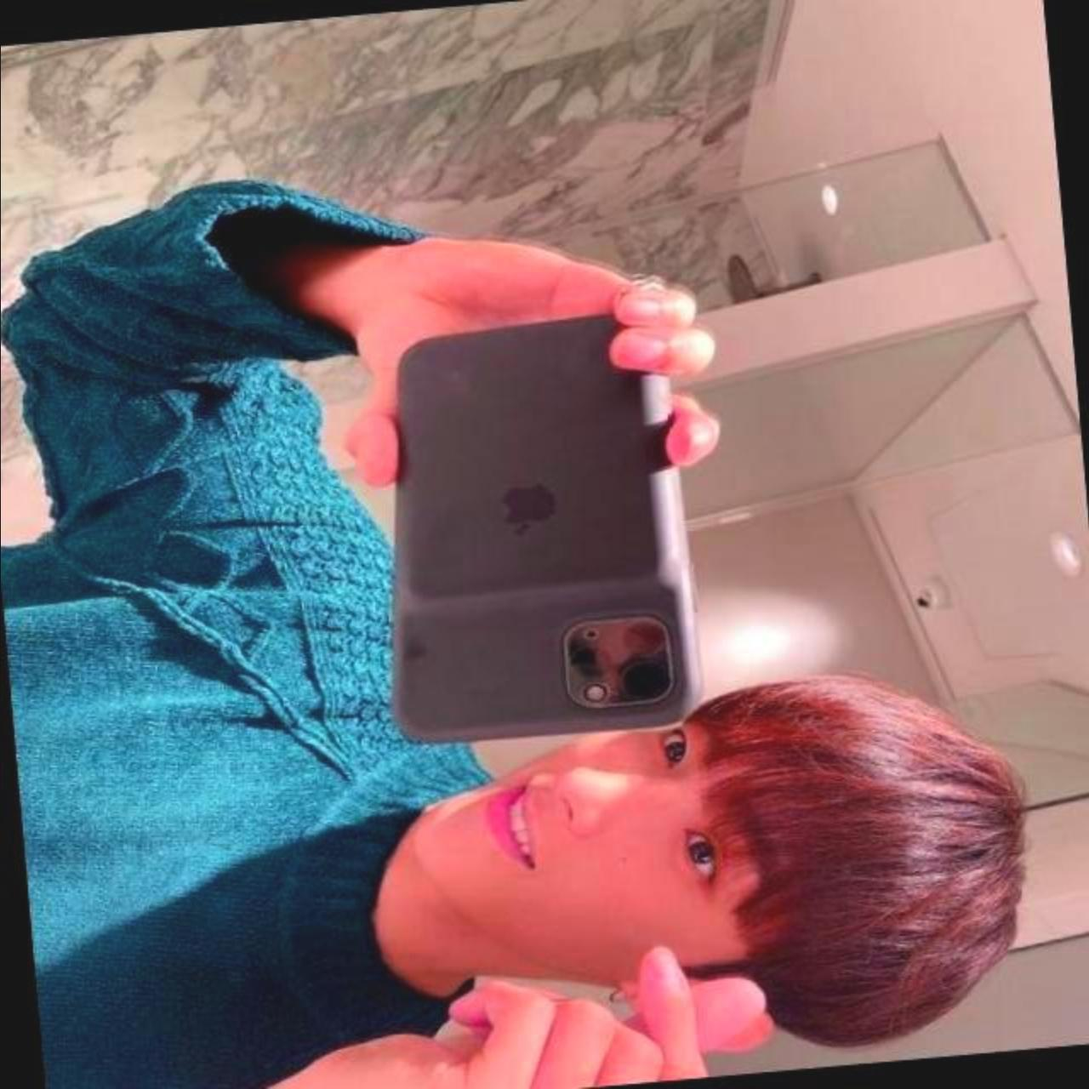phone: (378, 305, 704, 750)
